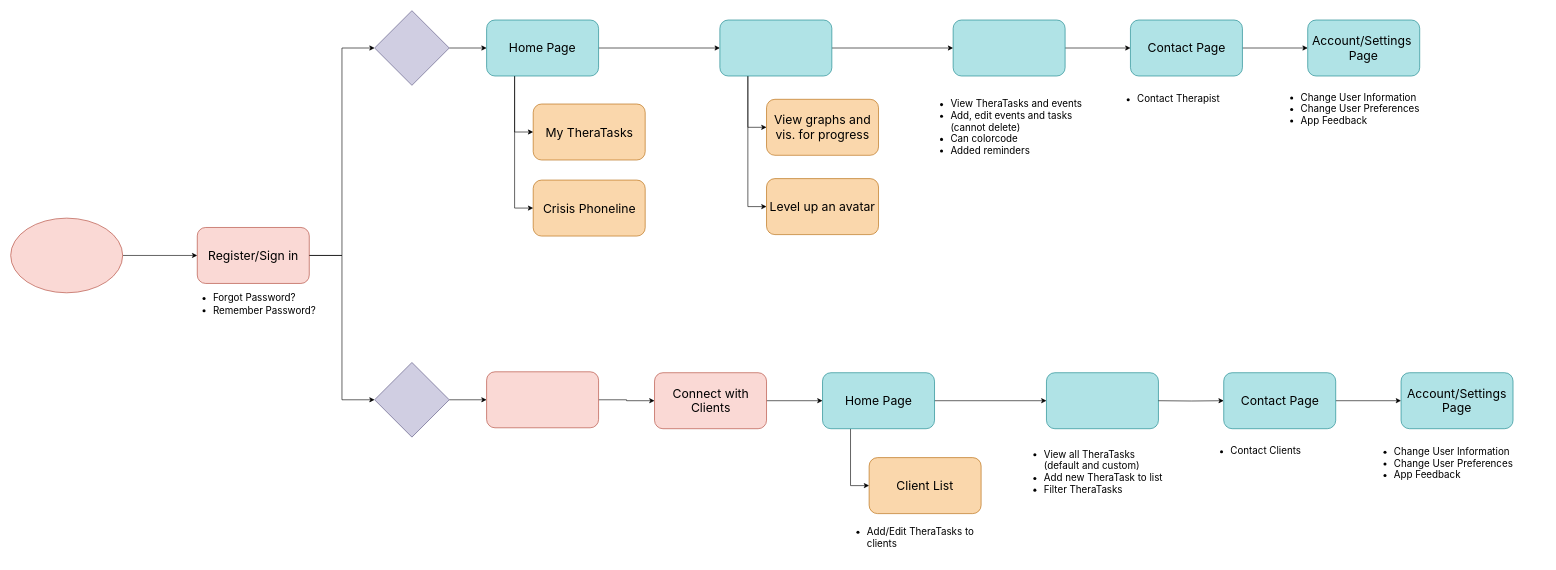
Some shapes in this 1556 by 570 pixel diagram are drawn without their labels. The shapes that lost their labels are listed below. From the top down, each one's centre as x and y in pixels, then its label:
At (x=411, y=47): "User is Working with Therapist?".
At (x=775, y=47): "Progress Board Page".
At (x=1009, y=47): "Calendar Page".
At (x=66, y=255): "Start on Splash Screen".
At (x=411, y=399): "User is Therapist?".
At (x=542, y=399): "Verify Therapist License".
At (x=1102, y=400): "TheraTasks Page".
